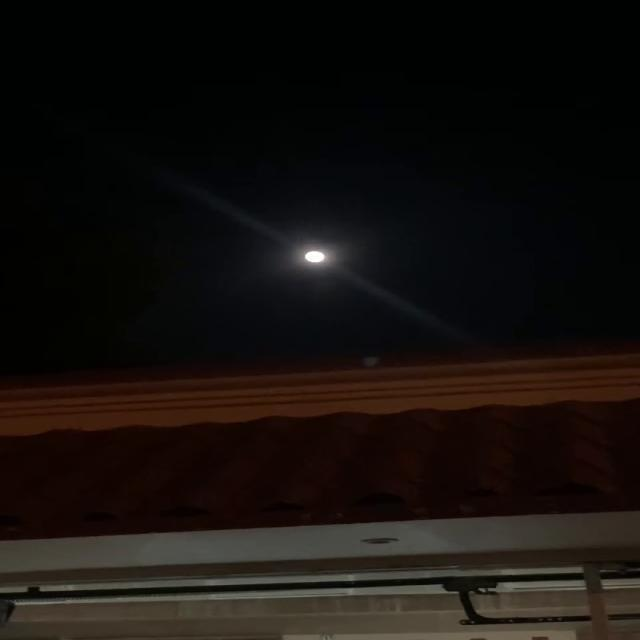moon: (292, 251, 320, 266)
